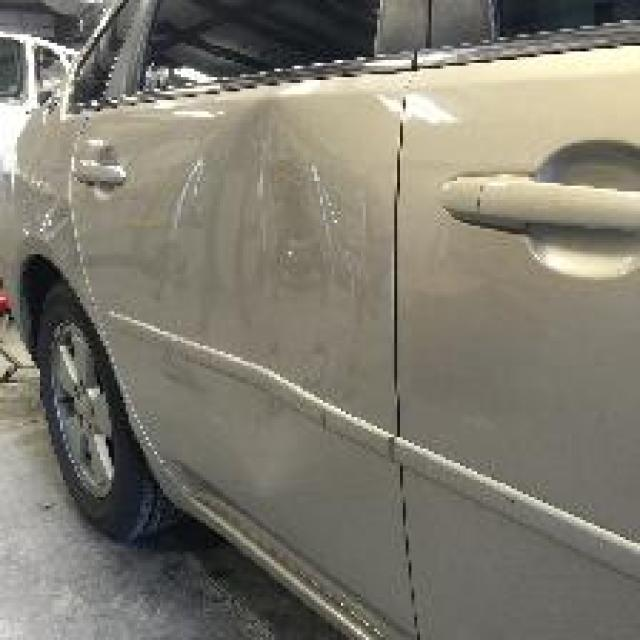door_dent_moderate: (117, 97, 371, 351)
